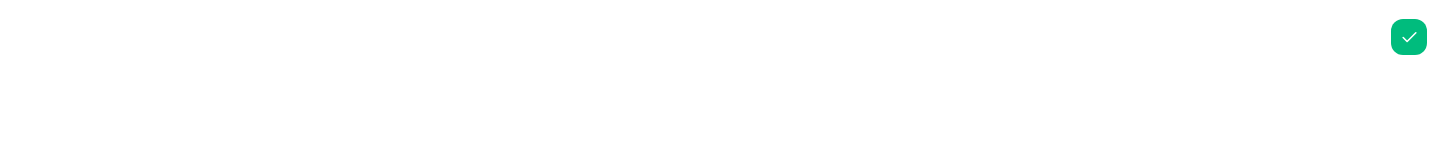
it: LeadCard › 429 错误 → 映射成友好话术，不甩技术原文
This screenshot has width=1440, height=160.
What coordinates should you click on to do the following:
click the button named "confirm and send"
I would click on:
 (1409, 37)
Its box is [1391, 19, 1427, 55].
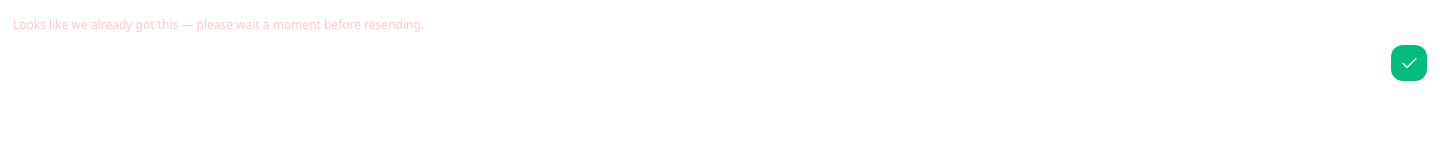
Now the text "already got this" is shown, box [13, 16, 424, 33]
